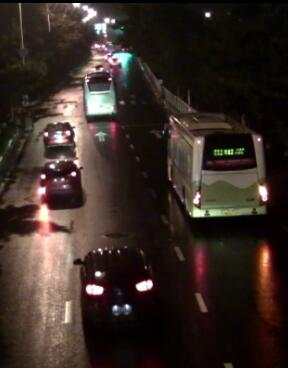bus: (162, 113, 270, 220), (81, 71, 116, 118)
car: (71, 247, 158, 332), (38, 160, 84, 201), (41, 120, 73, 147), (105, 53, 122, 68)
